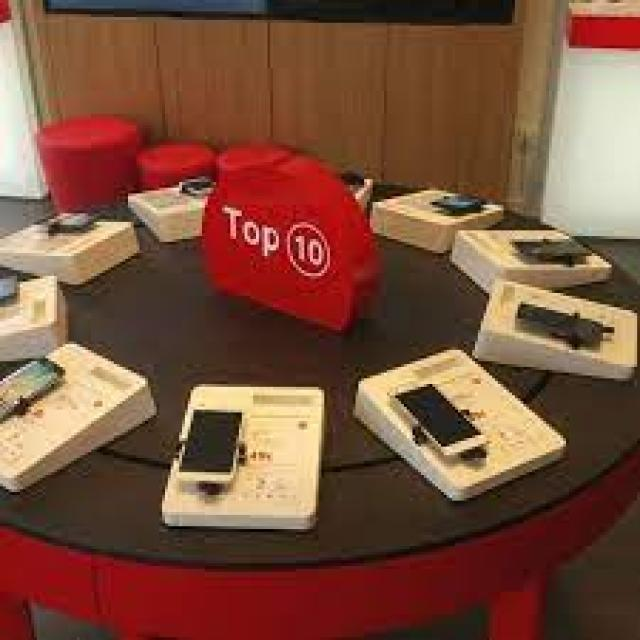cellphone: (387, 382, 488, 464), (178, 404, 245, 490), (514, 292, 608, 350), (5, 359, 66, 422), (510, 234, 603, 262), (34, 208, 102, 232), (175, 170, 224, 197), (0, 270, 32, 310), (432, 191, 487, 214), (336, 168, 370, 192)
